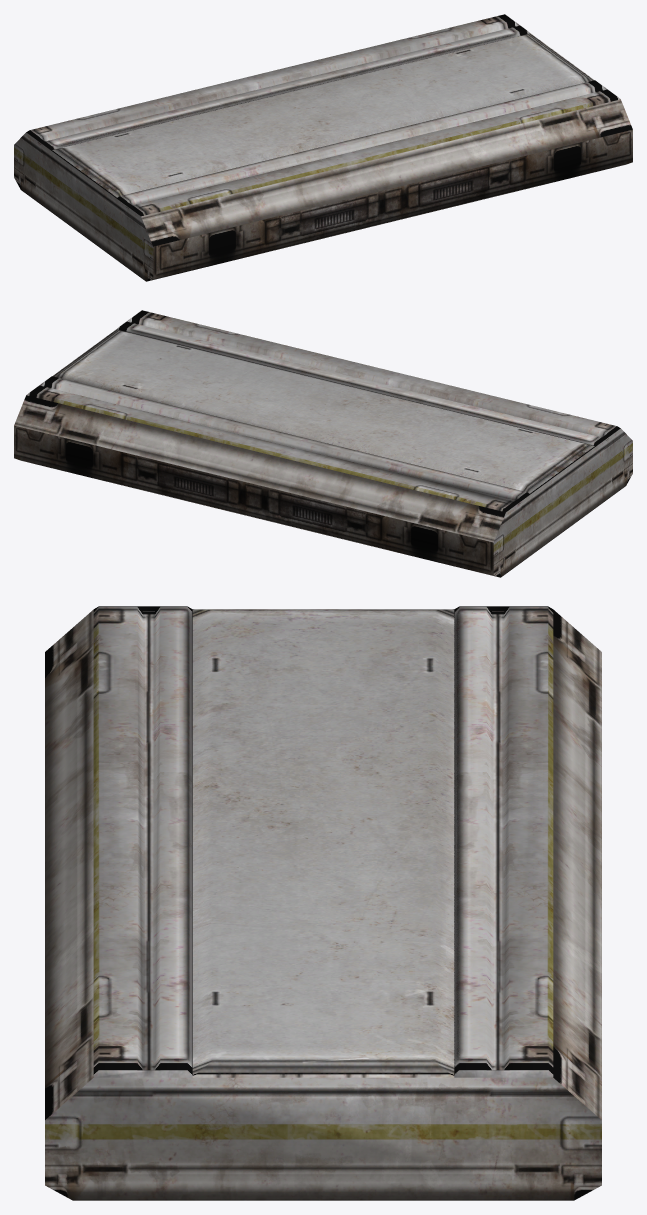
Rendered from theta_catwalk.dae.
3 renders of one model, top to bottom at view 1: azimuth 30°, elevation 25°; view 2: azimuth 150°, elevation 25°; view 3: azimuth 270°, elevation 25°, orthographic. The views are drawn at different scales.
Visible parts, largest first — view 1: Mesh; view 2: Mesh; view 3: Mesh.
Boxes of the visible parts, <box> form: Mesh: <box>14,14,632,281</box>; Mesh: <box>14,310,632,577</box>; Mesh: <box>45,606,601,1200</box>.
Bounding box in the file's own units: 4 × 0.52 × 2.01.
